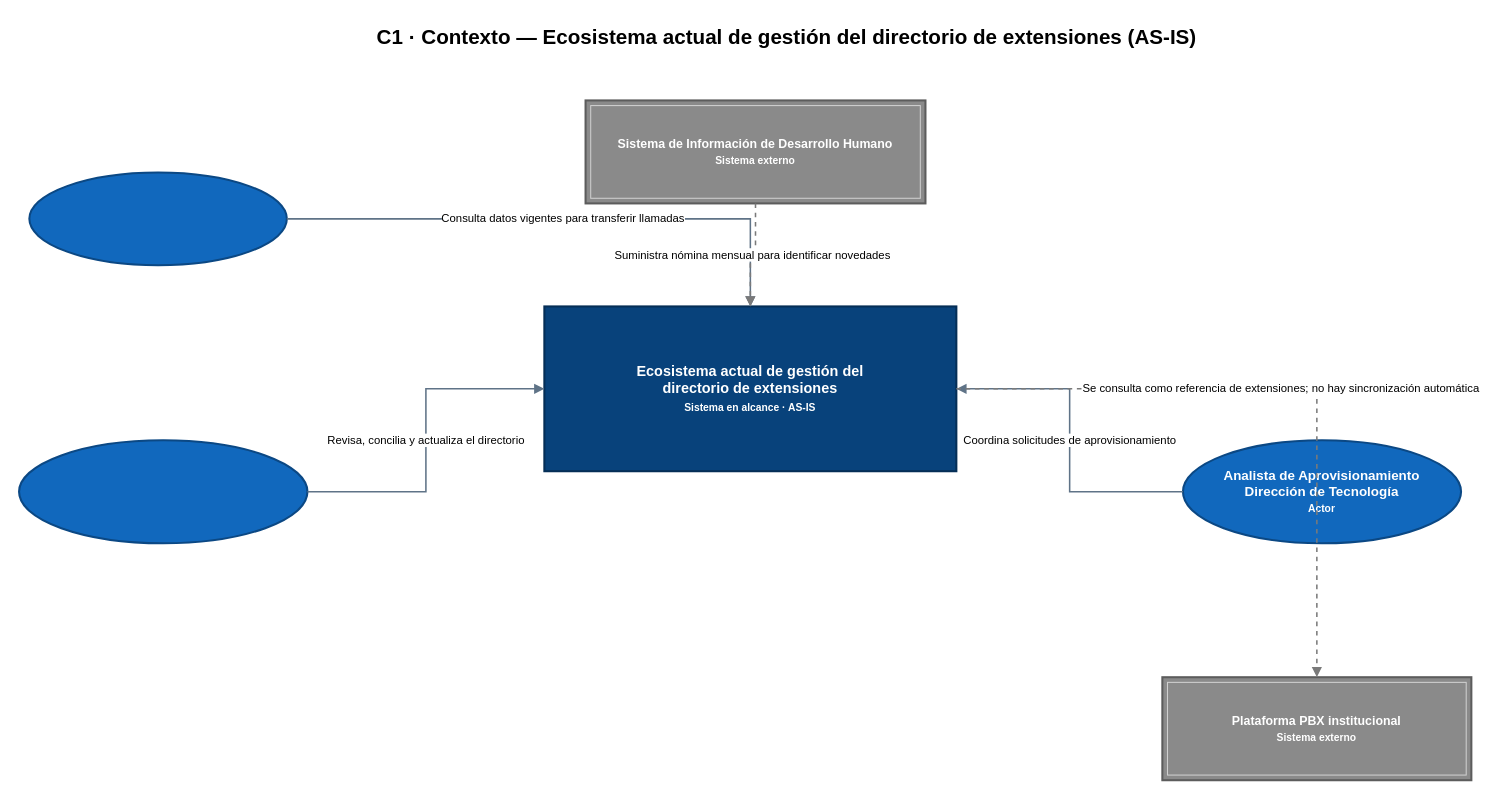
Some shapes in this 1497 by 798 pixel diagram are drawn without their labels. Here are the shapes that lost their labels. From the top down, the box of each, then its label:
(28, 171, 287, 266): Gestoras de servicio (×4) Actor
(18, 439, 308, 544): Profesional de Experiencia y Servicio Actor
